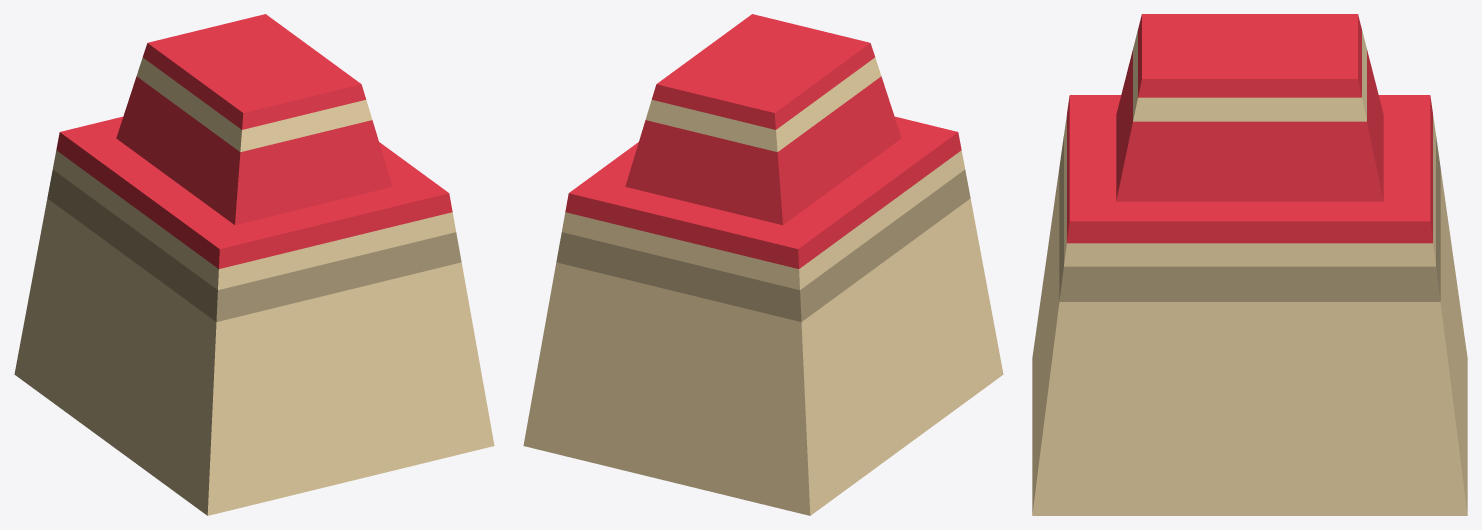
Rendered from House_6.fbx.
3 views of the same model, side by side, from view 1: azimuth 30°, elevation 25°; view 2: azimuth 150°, elevation 25°; view 3: azimuth 270°, elevation 25° (orthographic). The views are drawn at different scales.
Visible parts, largest first — view 1: House_6; view 2: House_6; view 3: House_6.
Boxes of the visible parts, x1=… form: House_6: x1=14, y1=14, x2=494, y2=515; House_6: x1=523, y1=14, x2=1003, y2=515; House_6: x1=1032, y1=14, x2=1467, y2=515.
Size of the model in its own units: 150 by 173 by 175.
